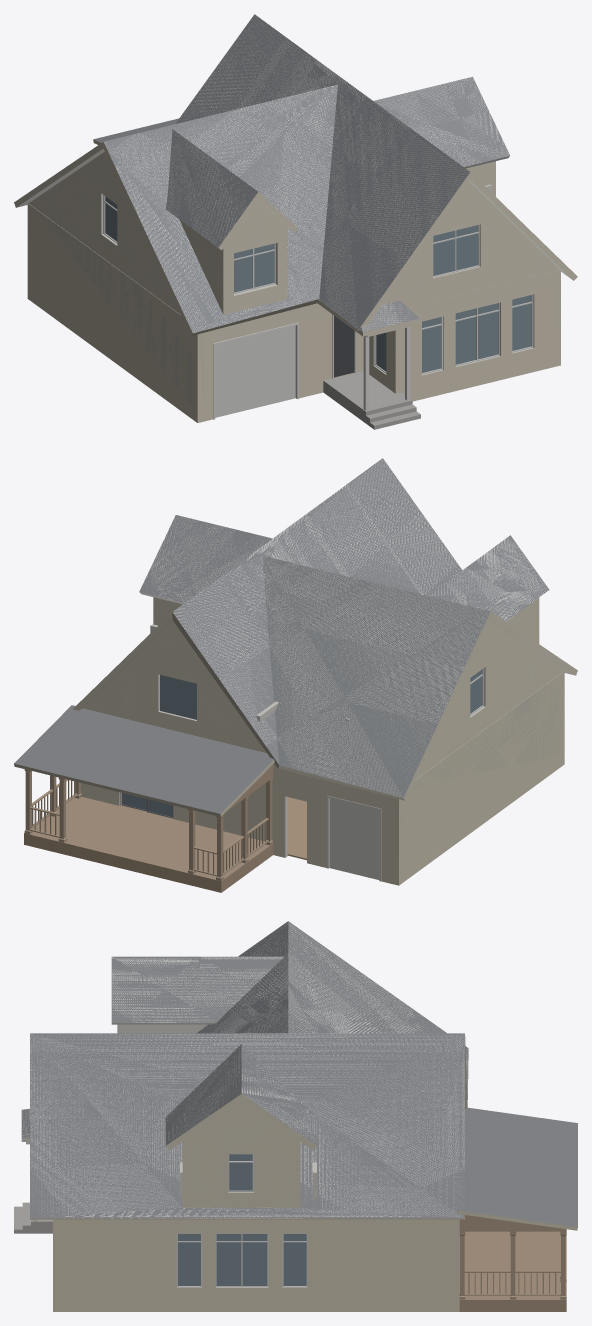
Rendered from house_cream.glb.
3 renders of one model, top to bottom at view 1: azimuth 30°, elevation 25°; view 2: azimuth 150°, elevation 25°; view 3: azimuth 270°, elevation 25°, orthographic. The views are drawn at different scales.
Visible parts, largest first — view 1: verda_house_cream; view 2: verda_house_cream; view 3: verda_house_cream.
Boxes of the visible parts, x1,y1,x2,y2 form: verda_house_cream: (14,14,577,429); verda_house_cream: (14,458,577,892); verda_house_cream: (14,921,577,1311).
Size of the model in its own units: 14.42 by 9.03 by 20.17.
